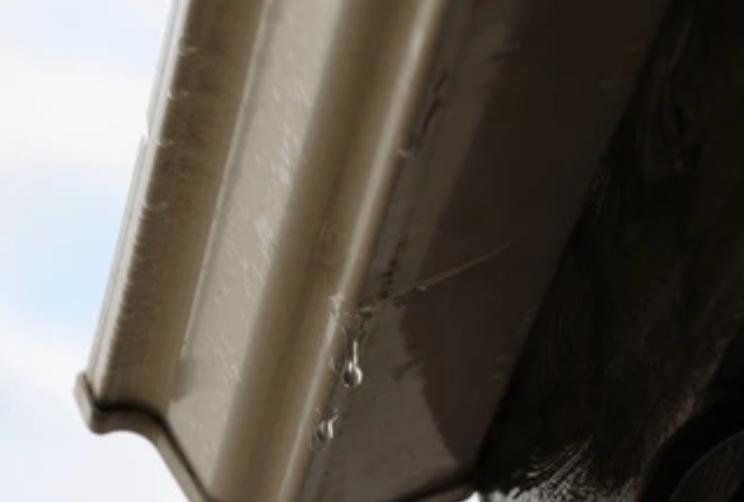water drop: (343, 341, 364, 387), (314, 405, 340, 442)
